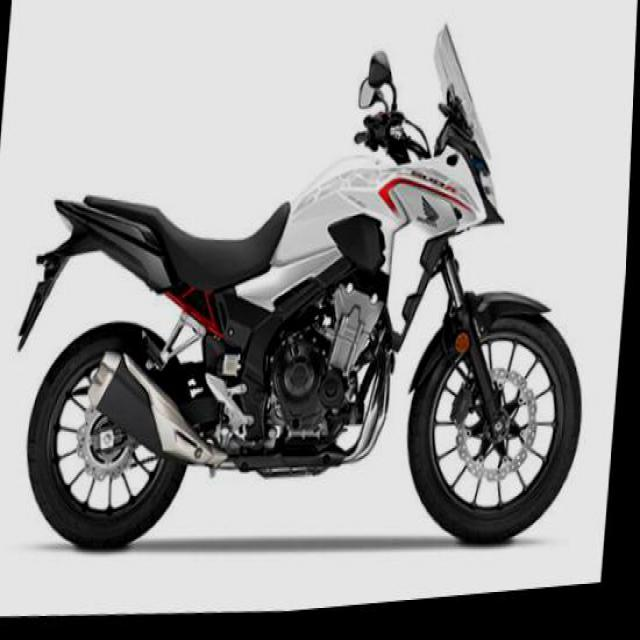CB500X: (0, 0, 617, 597)
